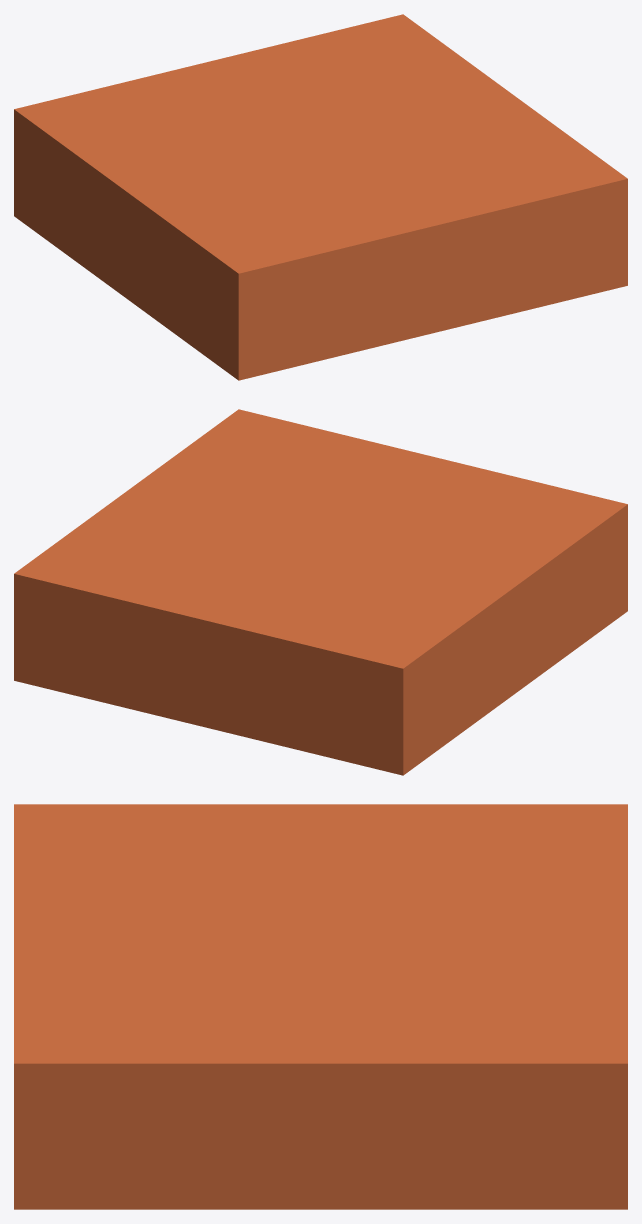
3 views of the same model, one above another, from view 1: azimuth 30°, elevation 25°; view 2: azimuth 150°, elevation 25°; view 3: azimuth 270°, elevation 25° (orthographic). The views are drawn at different scales.
Parts seen in each view (by area): view 1: X50_sh_20, X50_sh_10, X50_sh_3, X50_sh_14, X50_sh_19, X50_sh_17, X50_sh_13, X50_sh_5, X50_sh_18, X50_sh_7, X50_sh_2, X50_sh_16 (+7 smaller); view 2: X50_sh_12, X50_sh_5, X50_sh_4, X50_sh_14, X50_sh_17, X50_sh_13, X50_sh_18, X50_sh_6, X50_sh_3, X50_sh_2, X50_sh_20, X50_sh_15 (+7 smaller); view 3: X50_sh_20, X50_sh_4, X50_sh_8, X50_sh_18, X50_sh_13, X50_sh_5, X50_sh_2, X50_sh_12, X50_sh_15, X50_sh_14, X50_sh_3, X50_sh_1 (+5 smaller).
Boxes of the visible parts, x1,y1,x2,y2 form: X50_sh_20: [477, 123, 627, 302]; X50_sh_10: [324, 206, 499, 359]; X50_sh_3: [165, 205, 310, 337]; X50_sh_14: [91, 129, 202, 307]; X50_sh_19: [148, 257, 325, 380]; X50_sh_17: [32, 122, 149, 313]; X50_sh_13: [165, 120, 315, 206]; X50_sh_5: [188, 40, 311, 131]; X50_sh_18: [359, 60, 501, 145]; X50_sh_7: [403, 163, 559, 317]; X50_sh_2: [218, 172, 437, 230]; X50_sh_16: [292, 225, 406, 350]; X50_sh_12: [225, 599, 418, 756]; X50_sh_5: [119, 551, 337, 732]; X50_sh_4: [14, 528, 142, 711]; X50_sh_14: [368, 550, 554, 668]; X50_sh_17: [390, 612, 538, 731]; X50_sh_13: [305, 526, 508, 603]; X50_sh_18: [76, 490, 275, 555]; X50_sh_6: [325, 654, 463, 775]; X50_sh_3: [499, 487, 627, 594]; X50_sh_2: [368, 464, 501, 545]; X50_sh_20: [163, 409, 341, 475]; X50_sh_15: [260, 472, 381, 545]; X50_sh_20: [14, 995, 220, 1209]; X50_sh_4: [398, 993, 627, 1209]; X50_sh_8: [163, 1015, 366, 1209]; X50_sh_18: [227, 962, 508, 1132]; X50_sh_13: [219, 831, 476, 935]; X50_sh_5: [367, 884, 627, 996]; X50_sh_2: [20, 840, 244, 949]; X50_sh_12: [470, 804, 627, 920]; X50_sh_15: [144, 912, 348, 1002]; X50_sh_14: [213, 804, 493, 865]; X50_sh_3: [14, 804, 224, 863]; X50_sh_1: [331, 933, 600, 1024].
Bounding box in the file's own units: 200 × 52.51 × 200.
